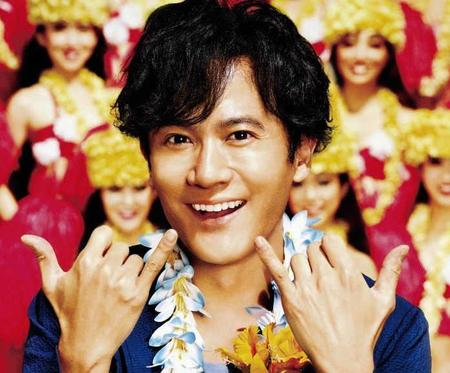face: (149, 56, 320, 266)
hand: (20, 229, 178, 359), (253, 233, 412, 355)
